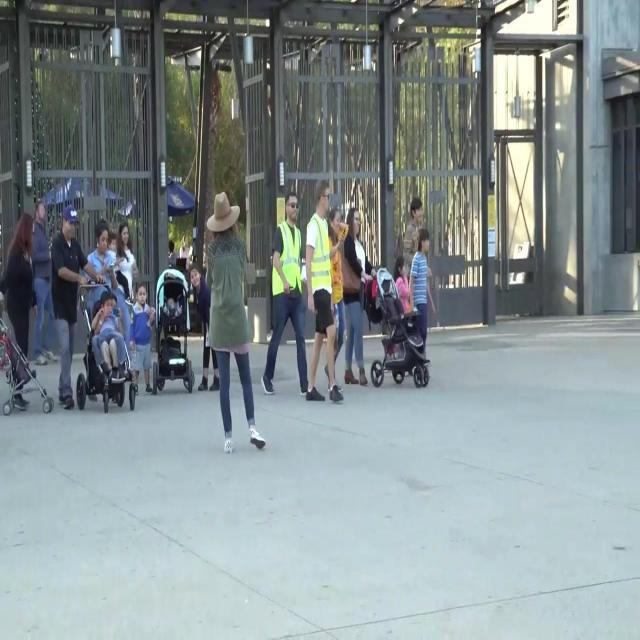Vest: (272, 222, 302, 296), (310, 214, 332, 290)
